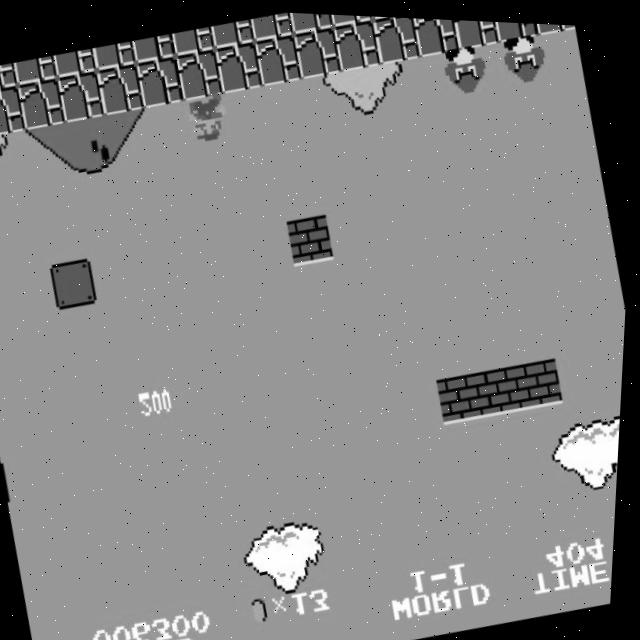1- brick_block: (286, 209, 338, 265), (477, 359, 530, 413), (438, 366, 490, 421), (517, 351, 569, 406)
11- little_mario: (179, 87, 234, 146)
17- undestructible_block: (291, 22, 344, 78), (16, 75, 68, 131), (95, 60, 147, 116), (134, 52, 186, 108), (213, 37, 265, 93), (252, 29, 304, 85), (331, 14, 383, 70), (56, 68, 108, 123), (173, 45, 225, 100), (370, 13, 422, 62), (409, 14, 461, 54), (0, 83, 29, 138), (13, 53, 59, 87), (52, 45, 98, 79), (131, 30, 177, 64), (91, 38, 138, 71), (209, 15, 256, 48), (449, 16, 500, 46), (170, 23, 216, 56), (249, 9, 295, 40), (488, 17, 539, 39), (288, 10, 334, 33), (0, 61, 20, 94), (328, 11, 373, 25), (529, 18, 575, 31)
3- empty_block: (50, 255, 102, 311), (3, 460, 17, 505)
8- goomba: (496, 25, 552, 84), (437, 37, 492, 96)
